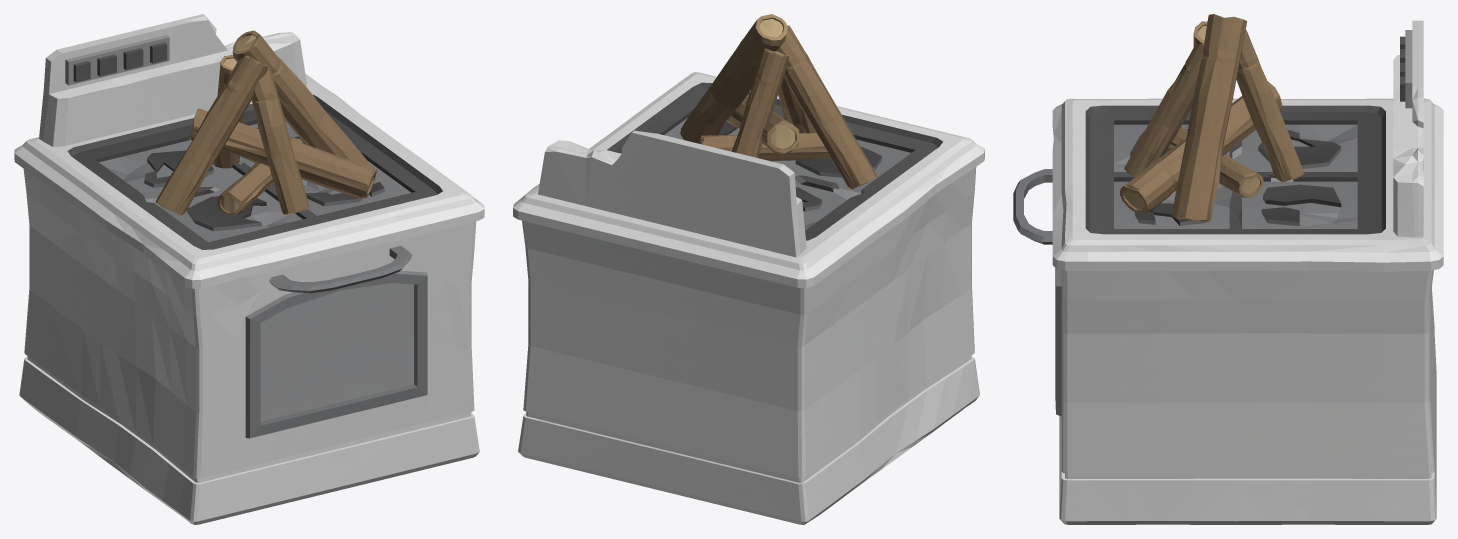
The model's file is oven_1_destroyed.dae.
3 views of the same model, side by side, from view 1: azimuth 30°, elevation 25°; view 2: azimuth 150°, elevation 25°; view 3: azimuth 270°, elevation 25° (orthographic). The views are drawn at different scales.
Visible parts, largest first — view 1: oven_destroyed_2, log_1, log_2, log_6, log_3, log_5, log_4; view 2: oven_destroyed_2, log_1, log_2, log_4, log_5, log_6, log_3; view 3: oven_destroyed_2, log_2, log_4, log_6, log_3, log_5.
Boxes of the visible parts, x1=… form: oven_destroyed_2: x1=14, y1=14, x2=484, y2=524; log_1: x1=155, y1=56, x2=268, y2=215; log_2: x1=232, y1=30, x2=370, y2=166; log_6: x1=188, y1=108, x2=376, y2=198; log_3: x1=251, y1=66, x2=309, y2=214; log_5: x1=218, y1=137, x2=303, y2=215; log_4: x1=213, y1=55, x2=243, y2=168; oven_destroyed_2: x1=513, y1=72, x2=984, y2=524; log_1: x1=776, y1=25, x2=876, y2=189; log_2: x1=680, y1=14, x2=787, y2=143; log_4: x1=732, y1=48, x2=788, y2=157; log_5: x1=700, y1=133, x2=831, y2=160; log_6: x1=726, y1=94, x2=799, y2=154; log_3: x1=778, y1=76, x2=815, y2=133; oven_destroyed_2: x1=1013, y1=20, x2=1443, y2=524; log_2: x1=1171, y1=14, x2=1246, y2=222; log_4: x1=1236, y1=30, x2=1304, y2=181; log_6: x1=1120, y1=81, x2=1282, y2=213; log_3: x1=1124, y1=43, x2=1203, y2=176; log_5: x1=1166, y1=127, x2=1263, y2=197.
Bounding box in the file's own units: 0.9832 × 1.13 × 1.26.
